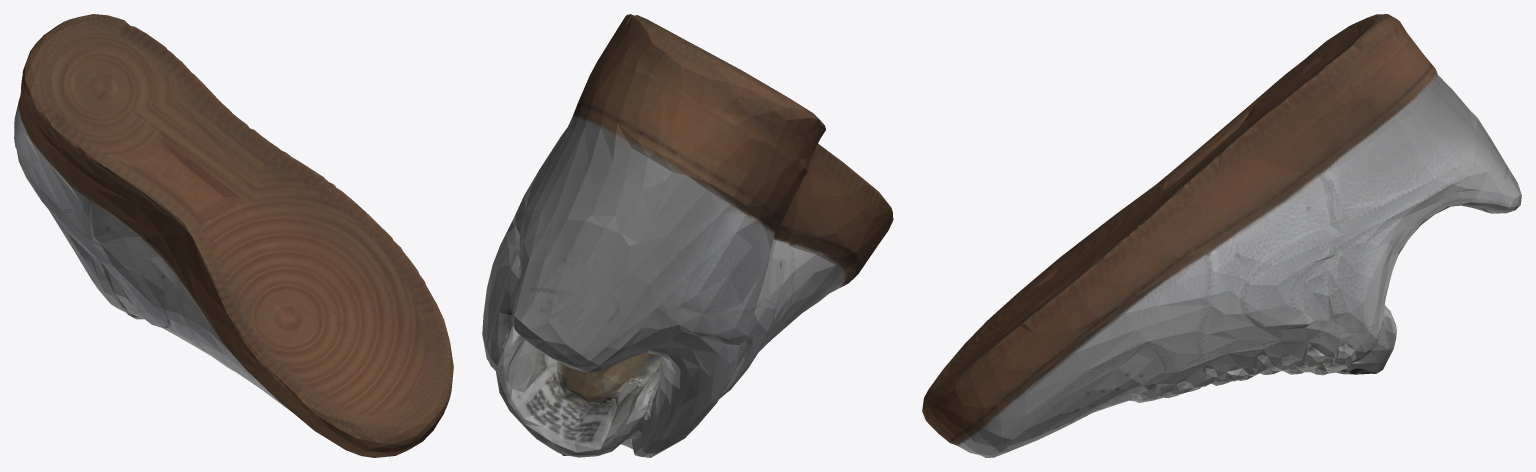
Rendered from export-right-small.obj.
3 renders of one model, left to right at view 1: azimuth 30°, elevation 25°; view 2: azimuth 150°, elevation 25°; view 3: azimuth 270°, elevation 25°, orthographic. The views are drawn at different scales.
Bounding box in the file's own units: 160 × 198 × 292.
1 material, 1 textured.
